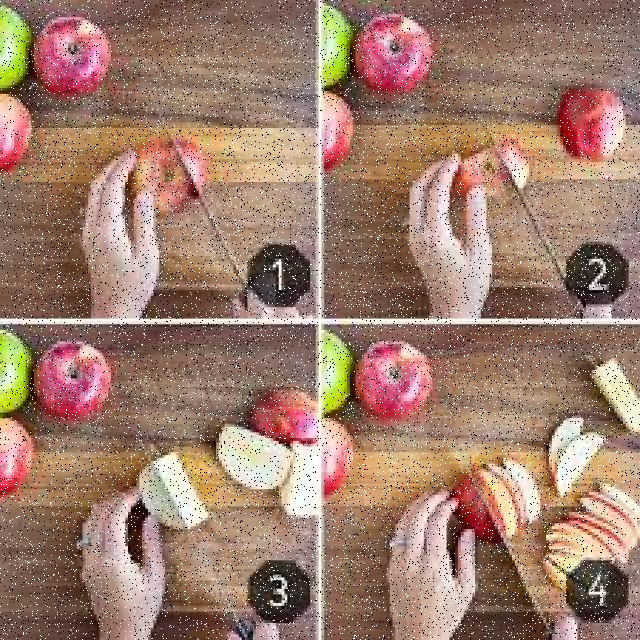Apple: (212, 422, 294, 505), (578, 342, 640, 445), (36, 340, 110, 418), (358, 15, 432, 92), (36, 18, 110, 94), (142, 452, 207, 534), (358, 344, 432, 415), (560, 86, 626, 162), (133, 141, 206, 209), (454, 146, 537, 199), (456, 479, 504, 544), (558, 431, 606, 494), (256, 396, 320, 443), (0, 92, 31, 181), (1, 329, 32, 417), (0, 5, 31, 89), (290, 444, 321, 527), (323, 332, 352, 416), (323, 86, 352, 170), (0, 418, 31, 496), (321, 4, 349, 84), (507, 456, 537, 528), (550, 526, 624, 555), (324, 413, 347, 486), (548, 562, 572, 588)
